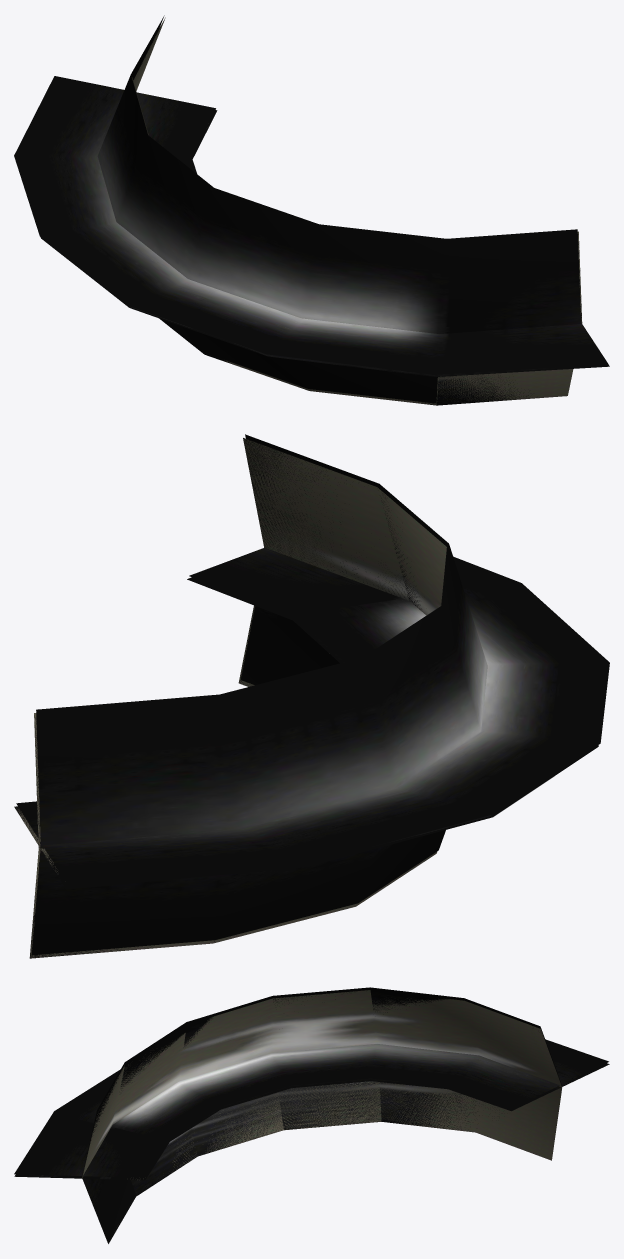
Rendered from Effect_2605attack.fbx.
3 views of the same model, one above another, from view 1: azimuth 30°, elevation 25°; view 2: azimuth 150°, elevation 25°; view 3: azimuth 270°, elevation 25° (orthographic). The views are drawn at different scales.
Parts seen in each view (by area): view 1: Effect_1001tattack03, Effect_1001tattack01, Effect_1001tattack02; view 2: Effect_1001tattack03, Effect_1001tattack01, Effect_1001tattack02; view 3: Effect_1001tattack01, Effect_1001tattack03, Effect_1001tattack02.
Boxes of the visible parts, x1,y1,x2,y2 form: Effect_1001tattack03: (14,15,608,403); Effect_1001tattack01: (131,17,582,405); Effect_1001tattack02: (40,26,609,405); Effect_1001tattack03: (16,434,609,955); Effect_1001tattack01: (16,438,446,958); Effect_1001tattack02: (14,438,598,958); Effect_1001tattack01: (82,990,562,1179); Effect_1001tattack03: (14,987,608,1241); Effect_1001tattack02: (14,990,609,1243).
Size of the model in its own units: 2.7 by 1.49 by 4.78.
3 materials, 3 textured.
